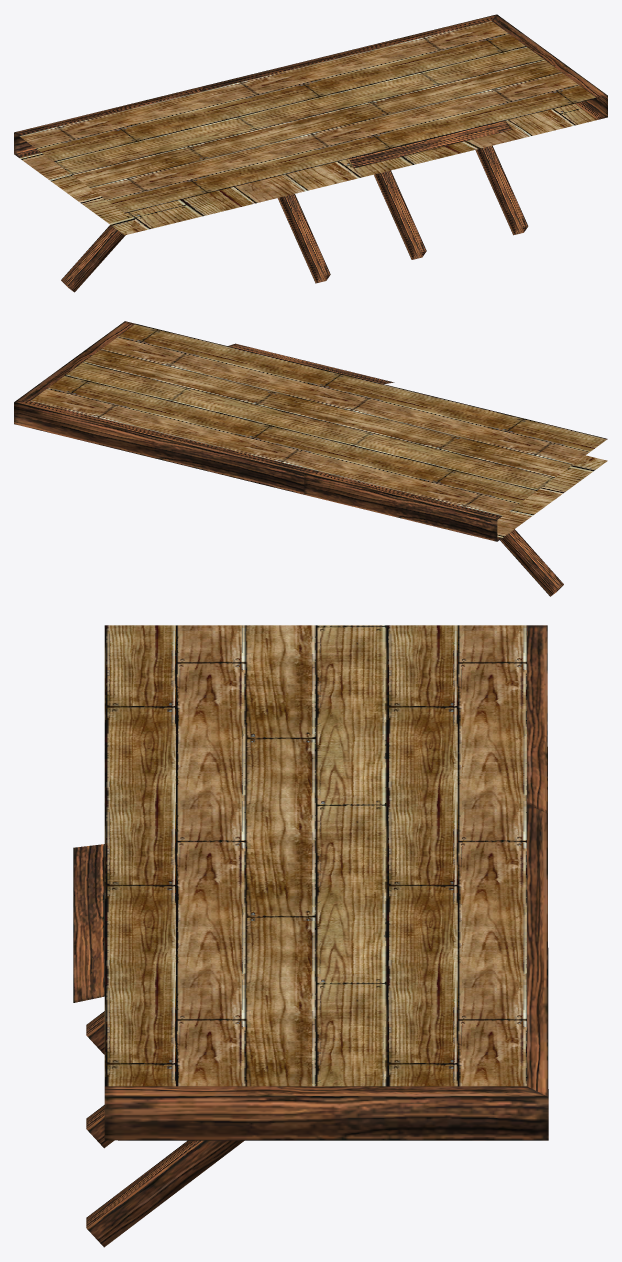
The model's file is LAKETOWN_WAREHOUSE3_PS_WH3_PLATFORM394848__GX.fbx.
3 views of the same model, one above another, from view 1: azimuth 30°, elevation 25°; view 2: azimuth 150°, elevation 25°; view 3: azimuth 270°, elevation 25° (orthographic). The views are drawn at different scales.
Parts seen in each view (by area): view 1: LAKETOWN_WAREHOUSE3_PS_WH3_PLATFORM394848__GX; view 2: LAKETOWN_WAREHOUSE3_PS_WH3_PLATFORM394848__GX; view 3: LAKETOWN_WAREHOUSE3_PS_WH3_PLATFORM394848__GX.
Part boxes in pixels (x1,y1,x2,y2): LAKETOWN_WAREHOUSE3_PS_WH3_PLATFORM394848__GX: (14, 14, 607, 292); LAKETOWN_WAREHOUSE3_PS_WH3_PLATFORM394848__GX: (14, 321, 607, 596); LAKETOWN_WAREHOUSE3_PS_WH3_PLATFORM394848__GX: (73, 625, 548, 1247).
Bounding box in the file's own units: 80394 × 18252 × 33742.
3 materials, 3 textured.
